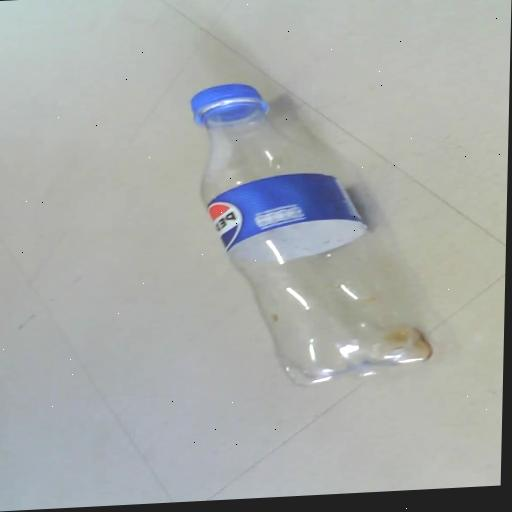bottle: (161, 47, 457, 406)
